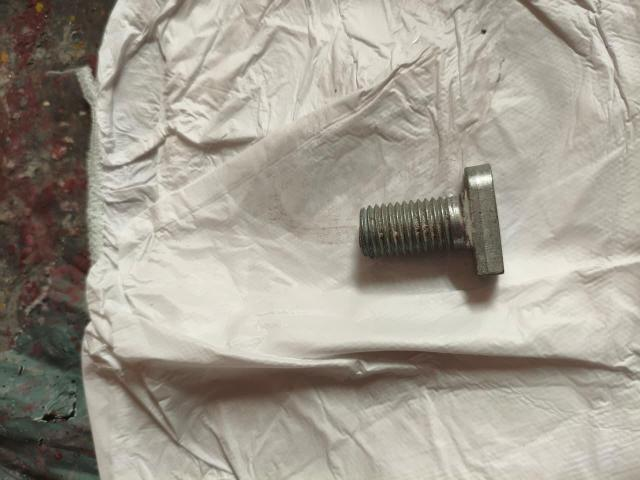Metal: (353, 169, 514, 280)
